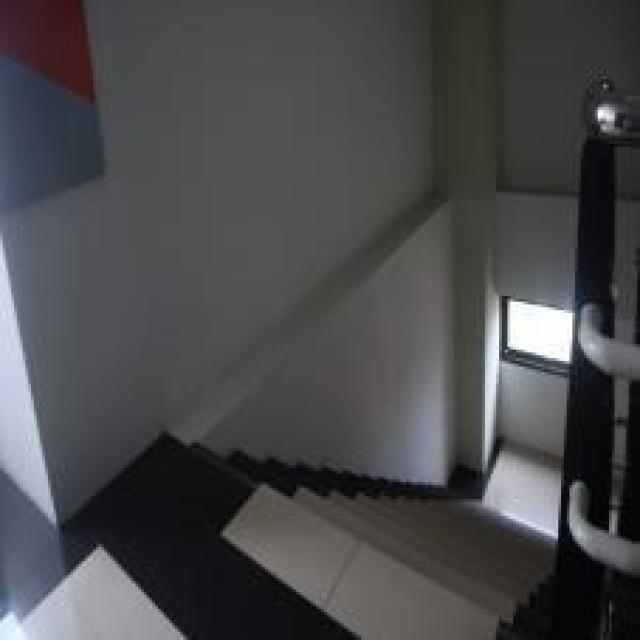downstair: (235, 483, 551, 638)
